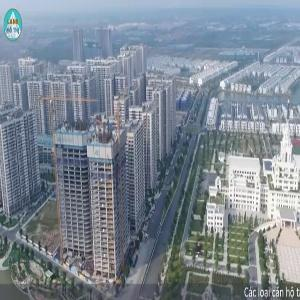drone: (157, 211, 242, 296)
